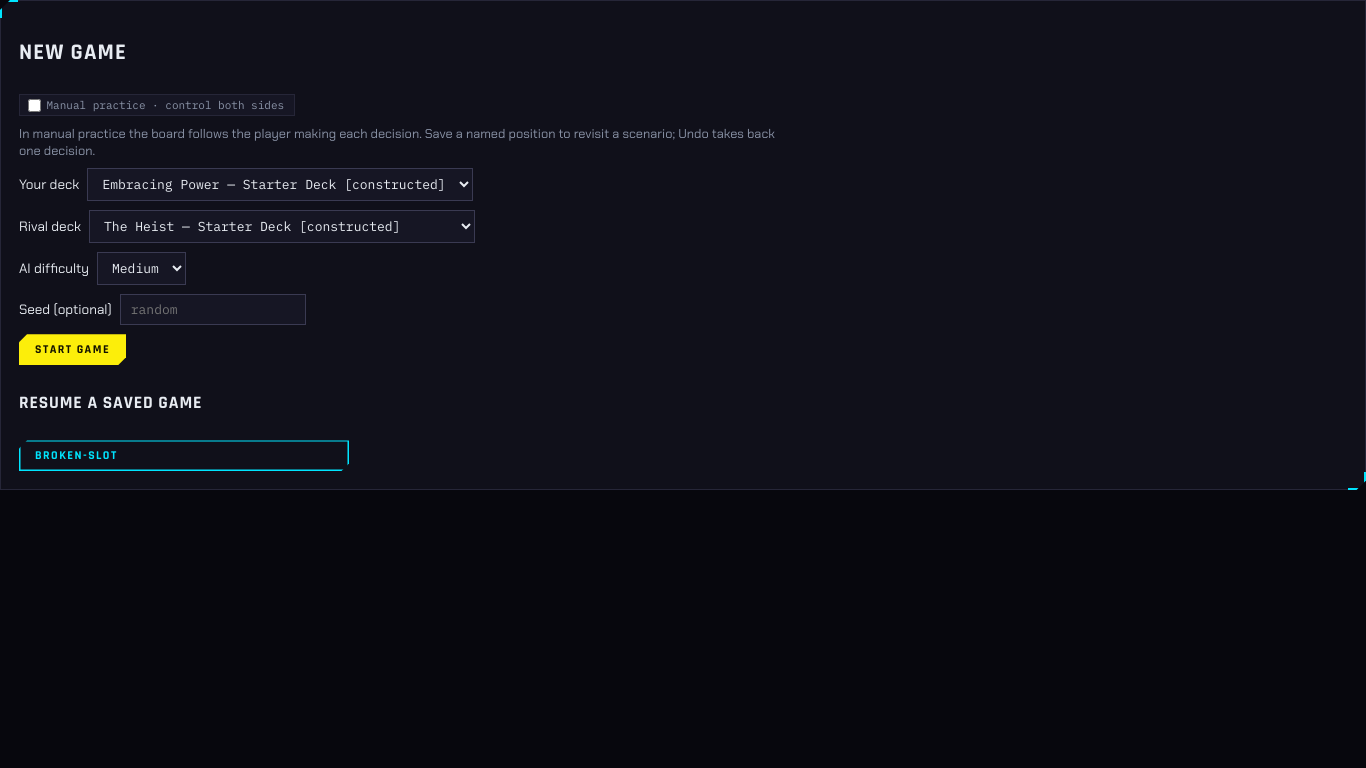
Test: PlayView resume error handling › deleting the broken slot removes it and clears the error
The width and height of the screenshot is (1366, 768).
Click the button with test id "resume-game" at x=76, y=456, box [19,440,349,471]
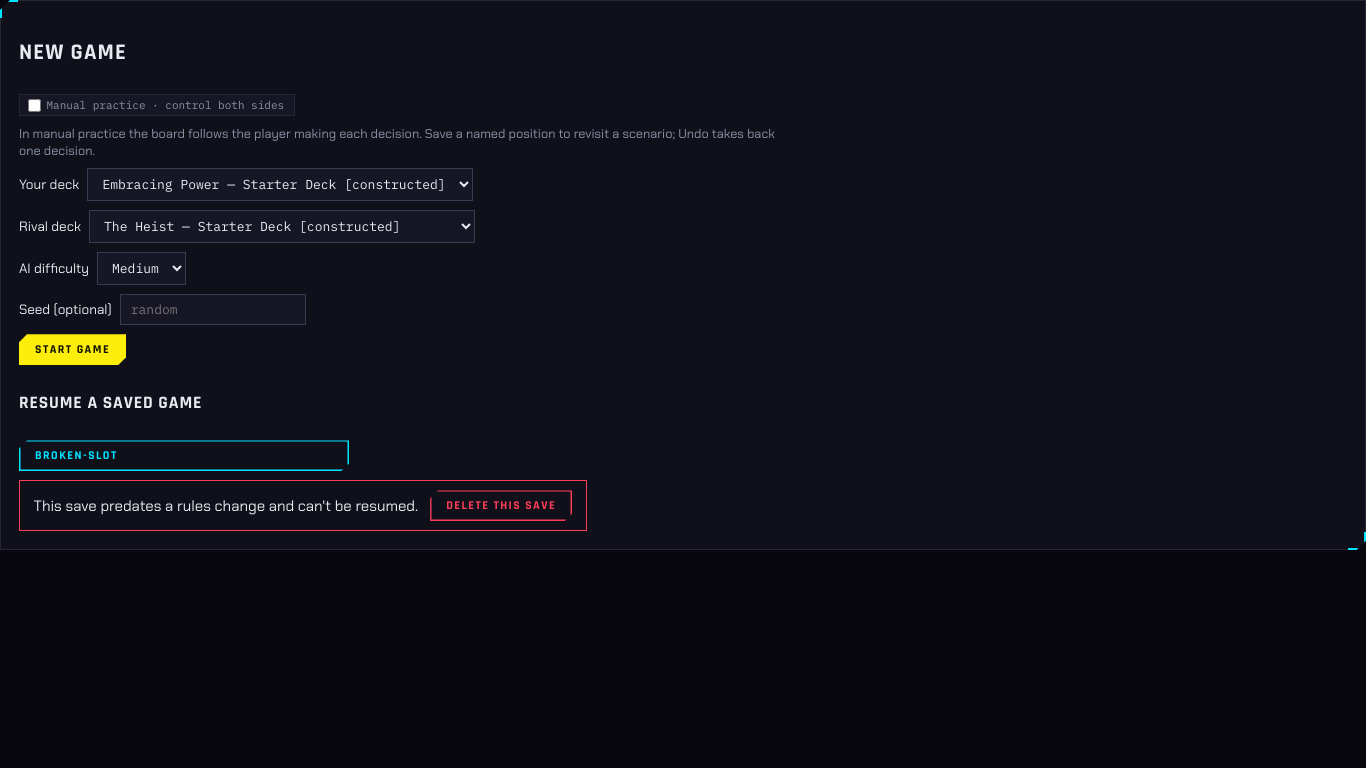
Check: the message "This save predates a rules change and can't be resumed. Delete this save" is shown, box [19,480,587,531]
Click the button with test id "delete-broken-save" at x=501, y=506, box [430,490,572,521]
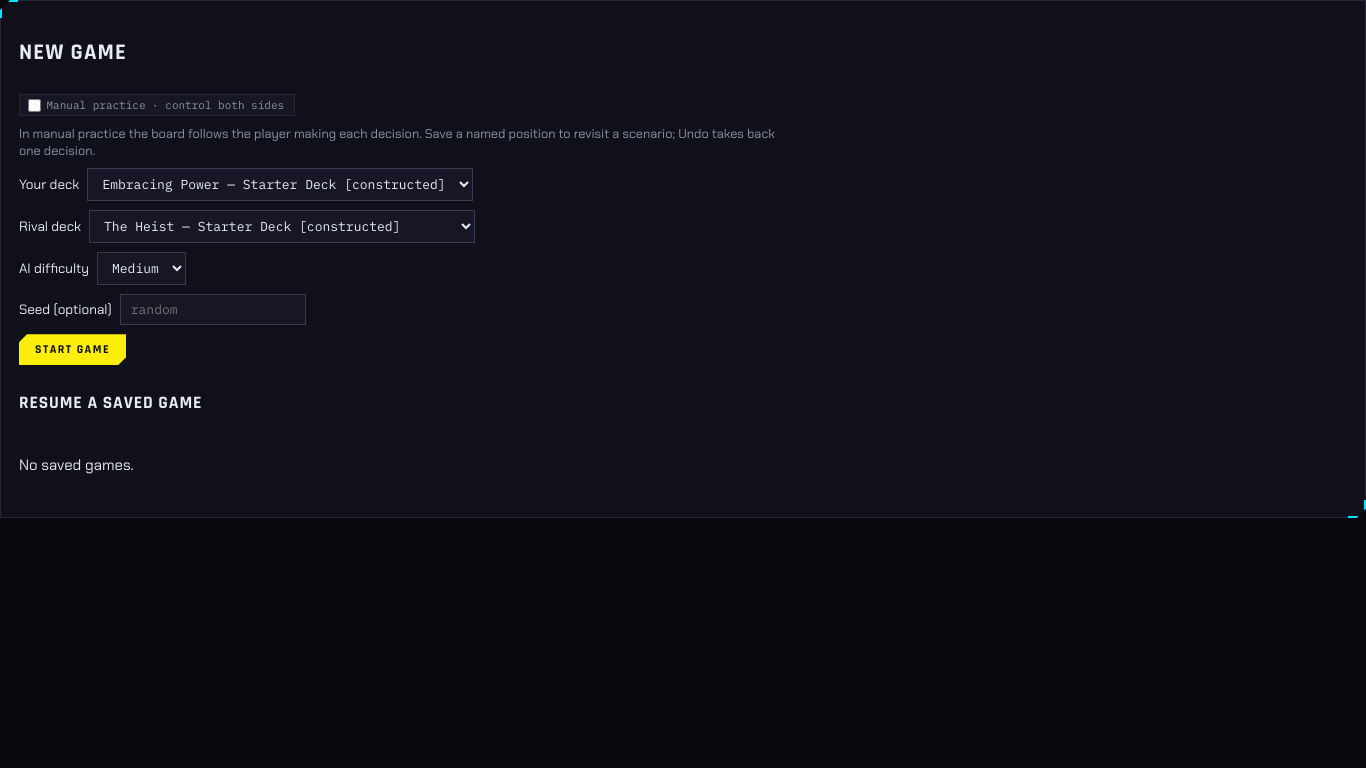
Check: the message with test id "resume-error" is gone
Check: the button with test id "resume-game" is gone
Check: the text "No saved games." is shown, box [19,455,134,475]
